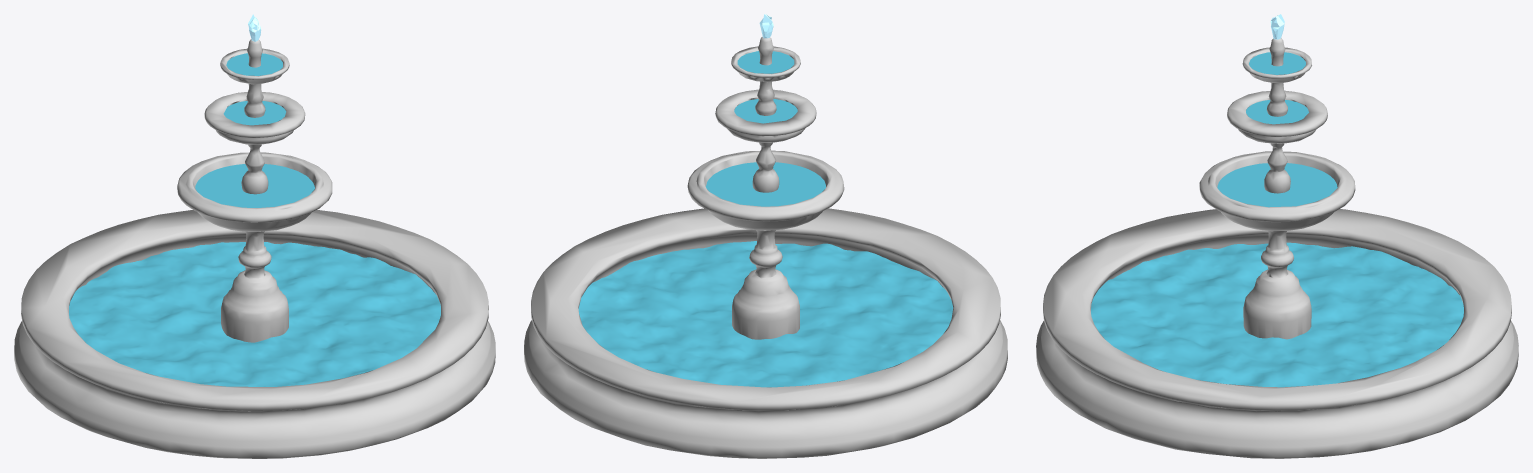
The model's file is fountain.fbx.
The picture shows the model from 3 angles, left to right: view 1: azimuth 30°, elevation 25°; view 2: azimuth 150°, elevation 25°; view 3: azimuth 270°, elevation 25°; orthographic projection.
Parts seen in each view (by area): view 1: fountain_Плоскость.002, water_Окружность, water.001_Окружность.001, water.002_Окружность.002, water.002_Окружность.001; view 2: fountain_Плоскость.002, water_Окружность, water.001_Окружность.001, water.002_Окружность.002, water.002_Окружность.001; view 3: fountain_Плоскость.002, water_Окружность, water.001_Окружность.001, water.002_Окружность.002, water.002_Окружность.001.
Part boxes in pixels (x1,y1,x2,y2): fountain_Плоскость.002: [14, 39, 495, 458]; water_Окружность: [69, 242, 440, 386]; water.001_Окружность.001: [195, 164, 314, 207]; water.002_Окружность.002: [223, 101, 286, 125]; water.002_Окружность.001: [226, 53, 282, 75]; fountain_Плоскость.002: [524, 37, 1007, 458]; water_Окружность: [578, 241, 953, 387]; water.001_Окружность.001: [705, 162, 825, 206]; water.002_Окружность.002: [734, 99, 797, 123]; water.002_Окружность.001: [737, 51, 794, 73]; fountain_Плоскость.002: [1036, 38, 1518, 458]; water_Окружность: [1091, 242, 1463, 387]; water.001_Окружность.001: [1217, 163, 1337, 207]; water.002_Окружность.002: [1246, 100, 1308, 124]; water.002_Окружность.001: [1249, 52, 1305, 74].
Size of the model in its own units: 200 by 158 by 200.
